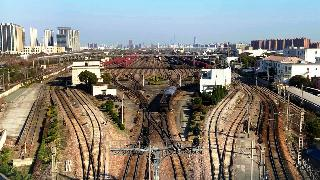train: (158, 83, 177, 110)
